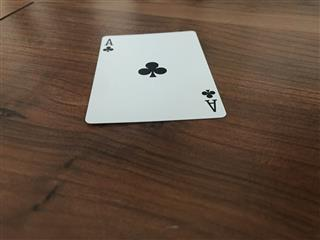AceOfClubs: (83, 29, 227, 124)
